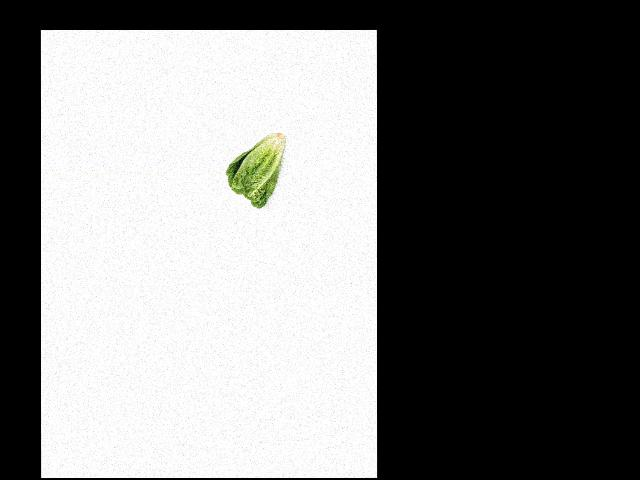lettuce: (226, 131, 286, 207)
